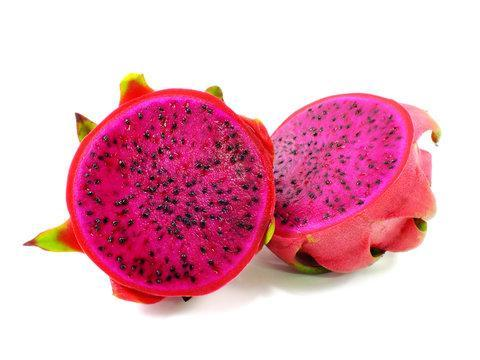dragon-fruit: (64, 85, 276, 300), (265, 90, 433, 273)
